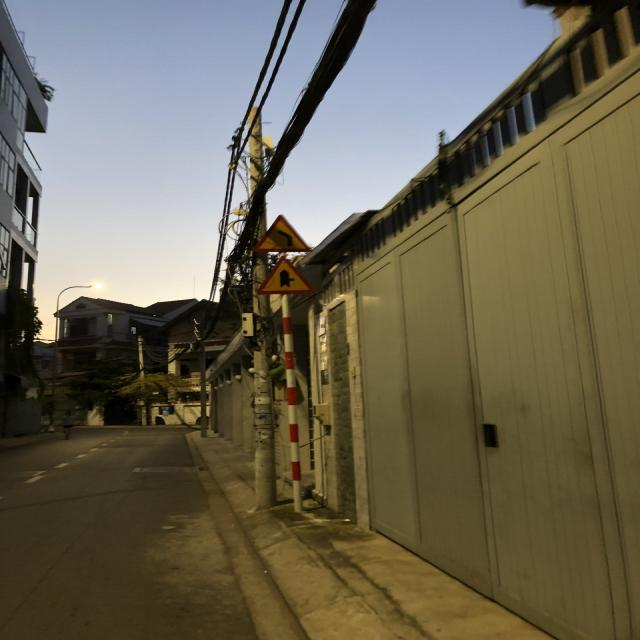Bien bao cho ngoat nguy hiem: (248, 210, 318, 256)
Bien bao giao nhau voi duong khong uu tien: (255, 256, 322, 300)
